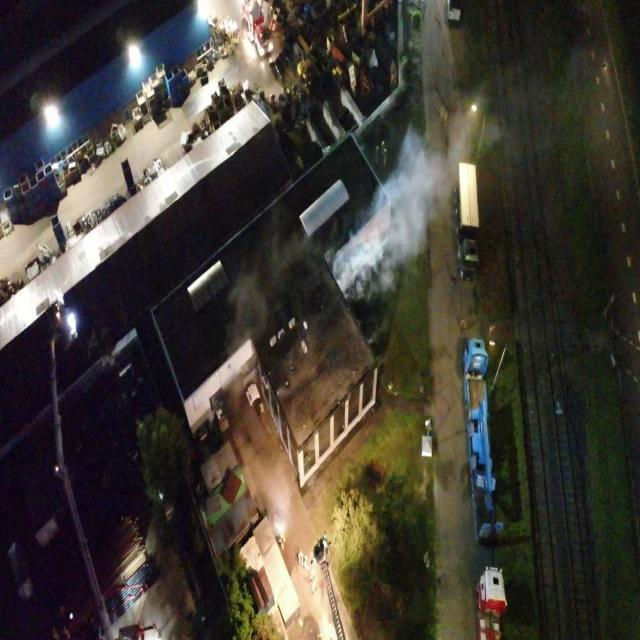Smoke: (331, 87, 504, 303), (224, 224, 324, 362)
